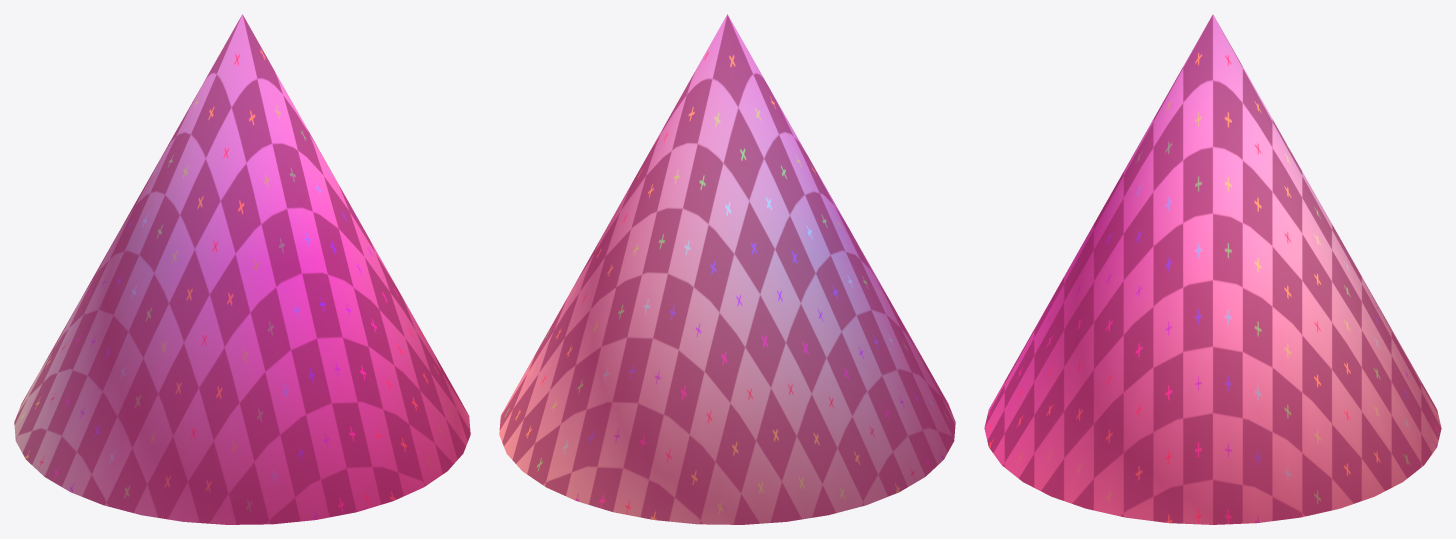
3 renders of one model, left to right at view 1: azimuth 30°, elevation 25°; view 2: azimuth 150°, elevation 25°; view 3: azimuth 270°, elevation 25°, orthographic.
Visible parts, largest first — view 1: Cone; view 2: Cone; view 3: Cone.
Part boxes in pixels (x1=…): Cone: x1=14, y1=14, x2=470, y2=524; Cone: x1=499, y1=14, x2=955, y2=524; Cone: x1=984, y1=14, x2=1441, y2=524.
Bounding box in the file's own units: 2 × 2 × 2.
1 material, 1 textured.
